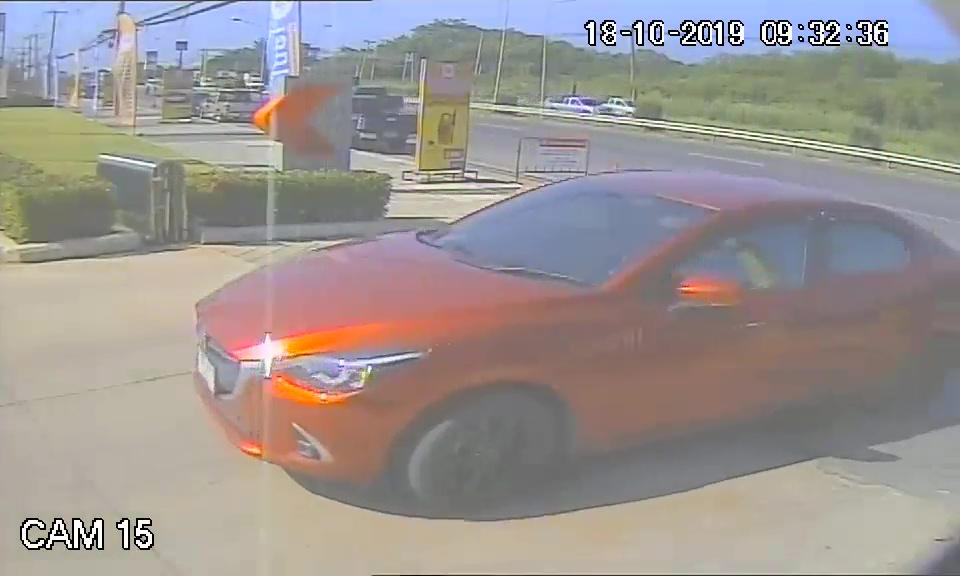sedan: (187, 169, 948, 507)
